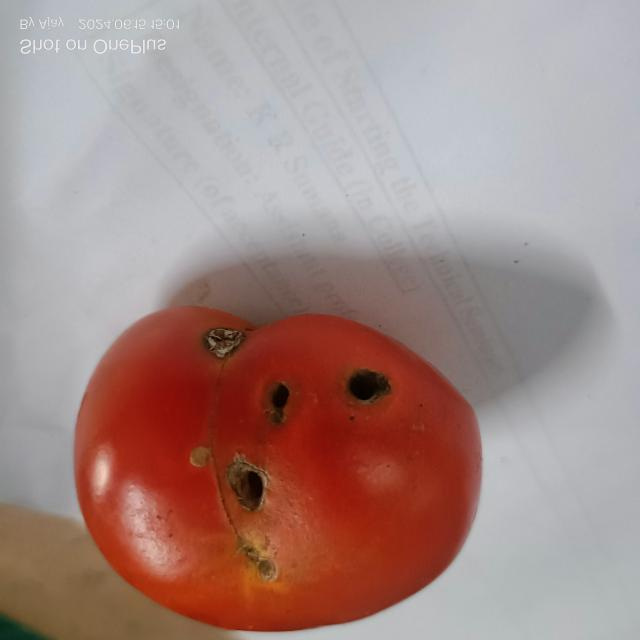fruitworm_bore: (339, 366, 397, 412), (229, 458, 269, 512), (264, 374, 298, 432)
